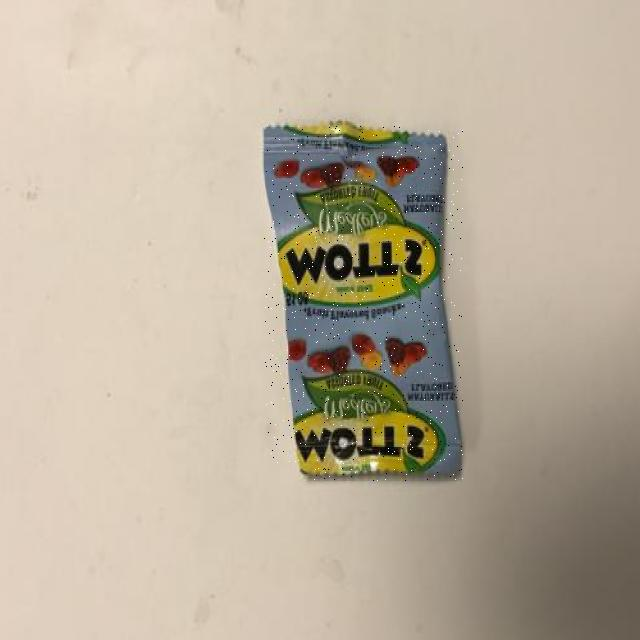wrapper: (264, 124, 463, 480)
